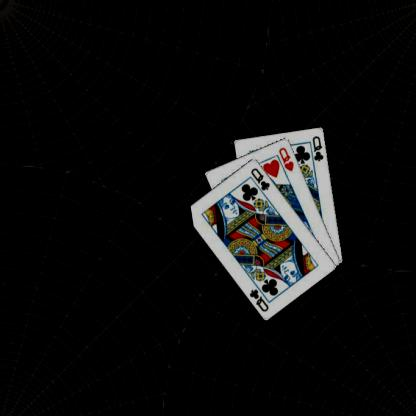QC: (250, 164, 273, 192), (249, 286, 272, 313), (312, 133, 327, 162)
QH: (278, 145, 297, 172)
